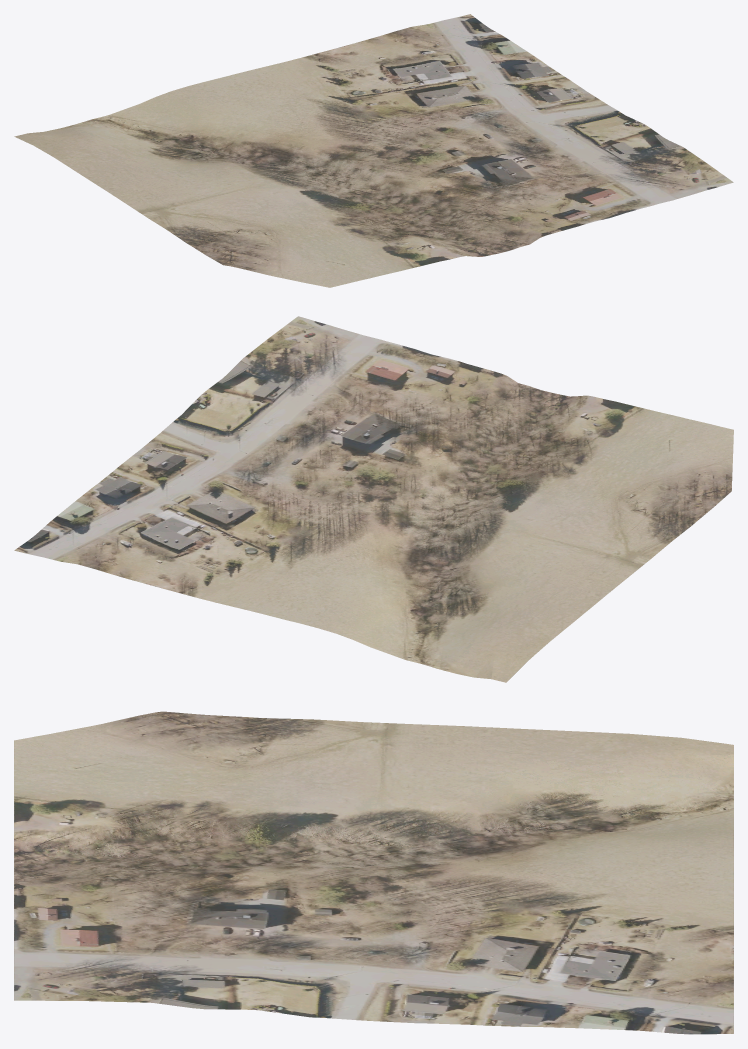
The model's file is CM_Terrain_24489844_6817951.fbx.
3 views of the same model, one above another, from view 1: azimuth 30°, elevation 25°; view 2: azimuth 150°, elevation 25°; view 3: azimuth 270°, elevation 25° (orthographic). The views are drawn at different scales.
Parts seen in each view (by area): view 1: CM_Terrain_24489844_6817951_LOD0; view 2: CM_Terrain_24489844_6817951_LOD0; view 3: CM_Terrain_24489844_6817951_LOD0.
Part boxes in pixels (x1,y1,x2,y2): CM_Terrain_24489844_6817951_LOD0: (14, 14, 733, 287); CM_Terrain_24489844_6817951_LOD0: (14, 316, 733, 682); CM_Terrain_24489844_6817951_LOD0: (14, 711, 733, 1034).
Size of what is drawn, in the model's own units: 205 by 16.57 by 205.
